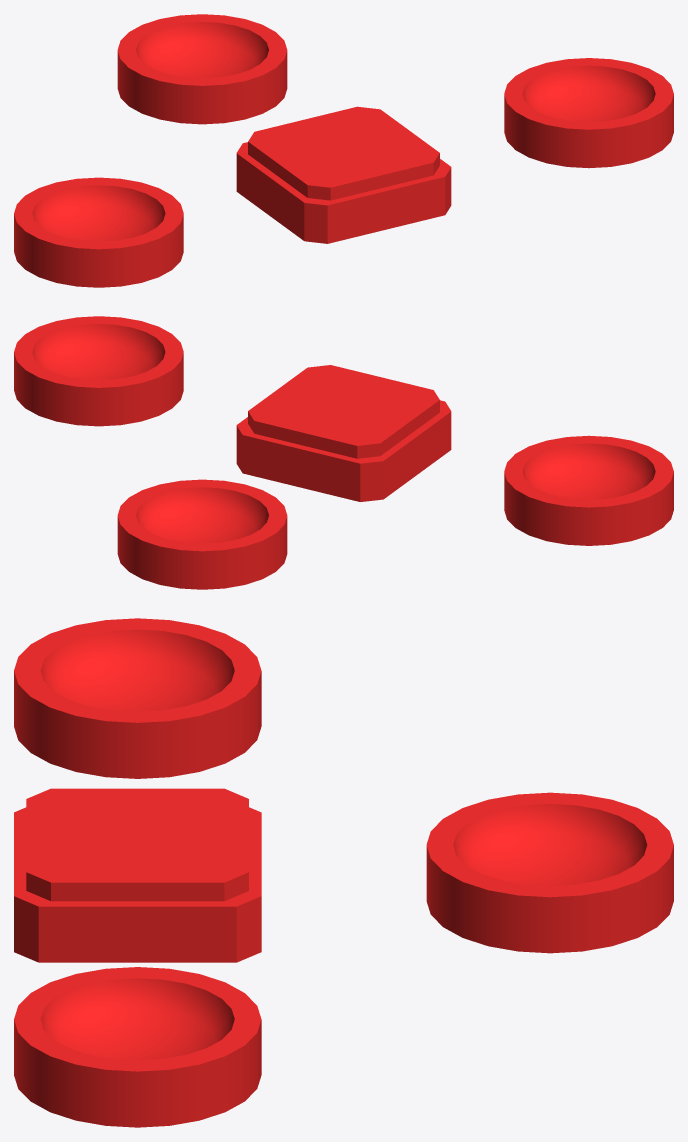
The model's file is Splitter_3.obj.
The picture shows the model from 3 angles, top to bottom: view 1: azimuth 30°, elevation 25°; view 2: azimuth 150°, elevation 25°; view 3: azimuth 270°, elevation 25°; orthographic projection. The views are drawn at different scales.
Parts seen in each view (by area): view 1: Handle, Output1, Output2, Output3; view 2: Handle, Output1, Output3, Output2; view 3: Handle, Output3, Output2, Output1.
Part boxes in pixels (box(x1,y1,x2,y2)): Handle: box(236, 106, 451, 243); Output1: box(117, 14, 287, 124); Output2: box(14, 177, 183, 287); Output3: box(504, 58, 673, 168); Handle: box(236, 365, 451, 501); Output1: box(117, 479, 287, 589); Output3: box(14, 316, 183, 426); Output2: box(504, 435, 673, 545); Handle: box(14, 788, 261, 962); Output3: box(14, 967, 261, 1127); Output2: box(14, 618, 261, 778); Output1: box(426, 792, 673, 953).
Bounding box in the file's own units: 2.6 × 0.2 × 1.6.
